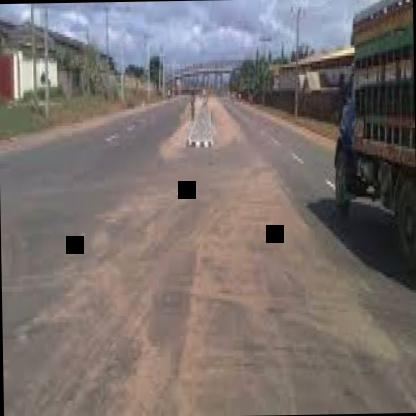car: (320, 0, 416, 314)
